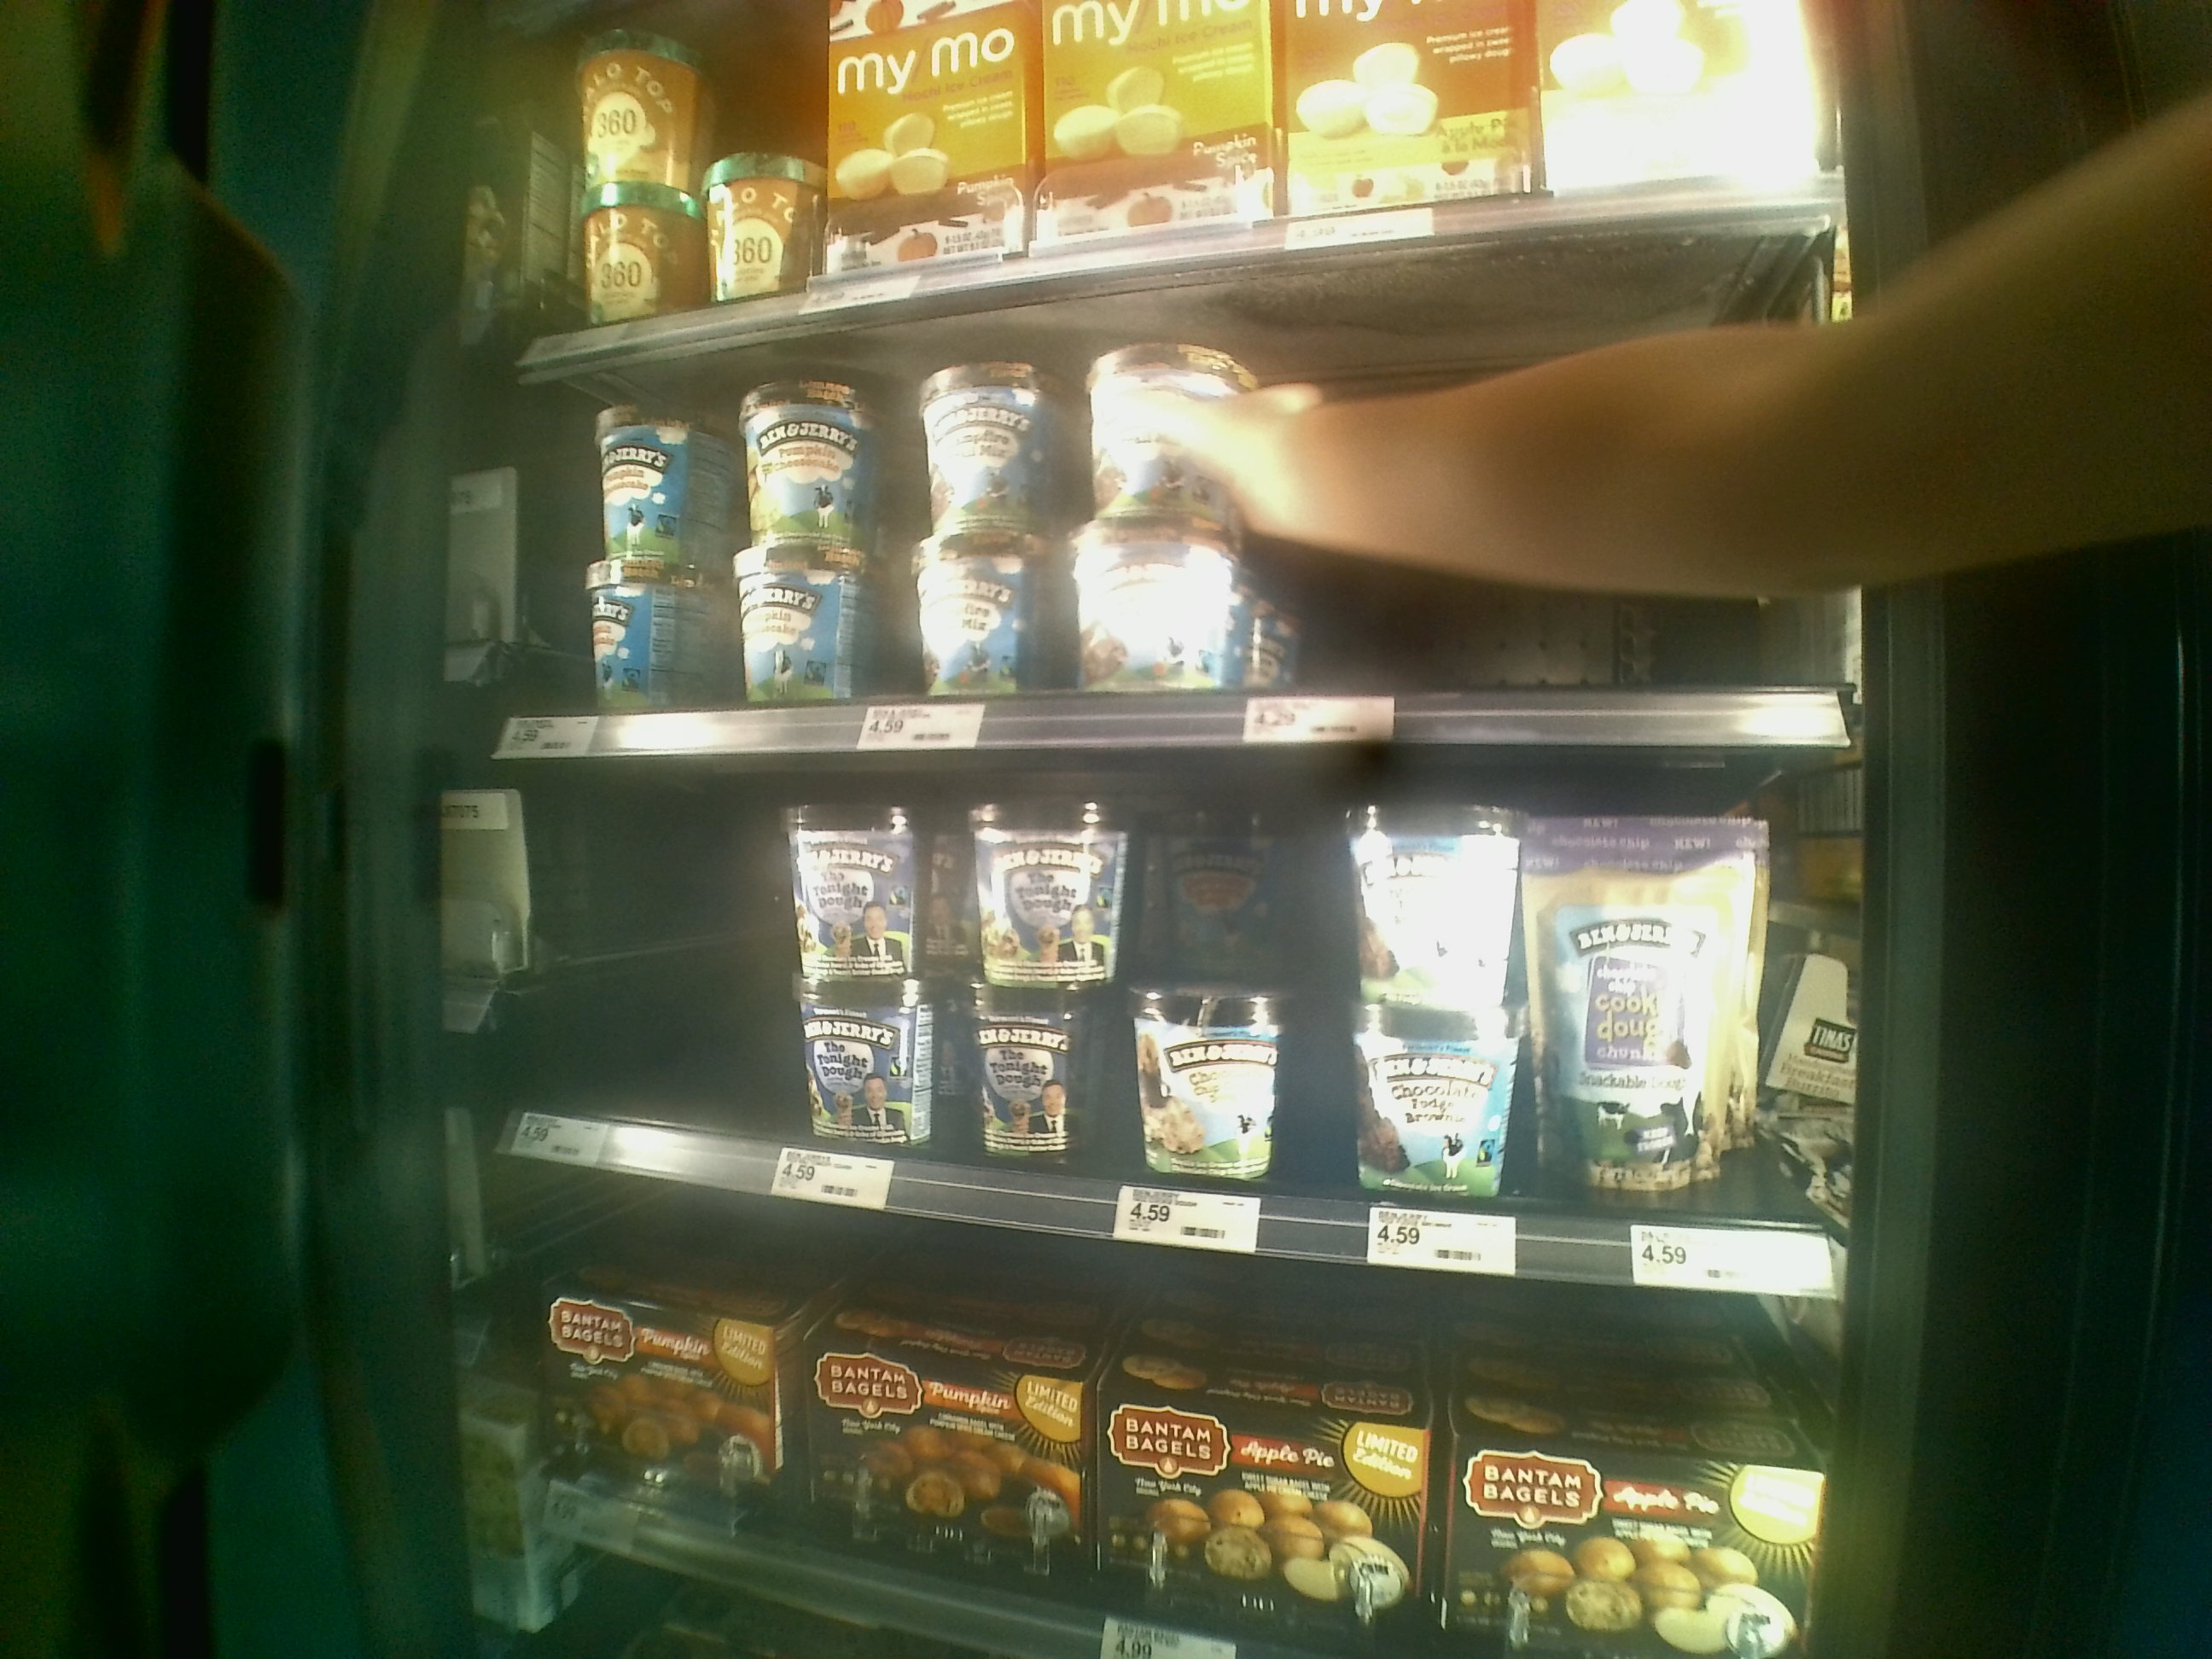shelf: (474, 741, 1855, 1305)
